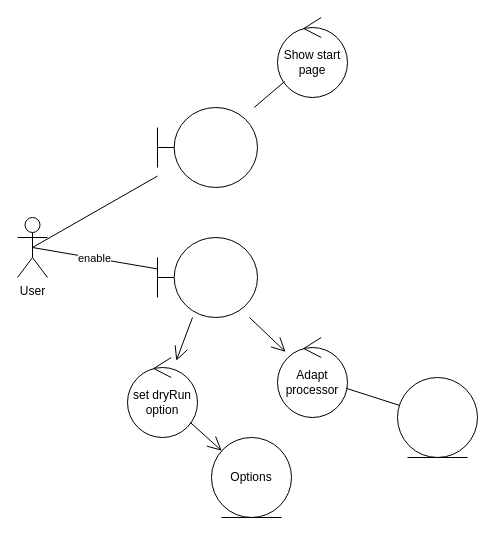
This 495x535 diagram has some shape labels left out. The centre of each missing label's shape, as x and y in pixels:
"Dry-run" belongs at (x=207, y=277).
"Processor" belongs at (x=437, y=417).
"Start page" belongs at (x=207, y=147).
